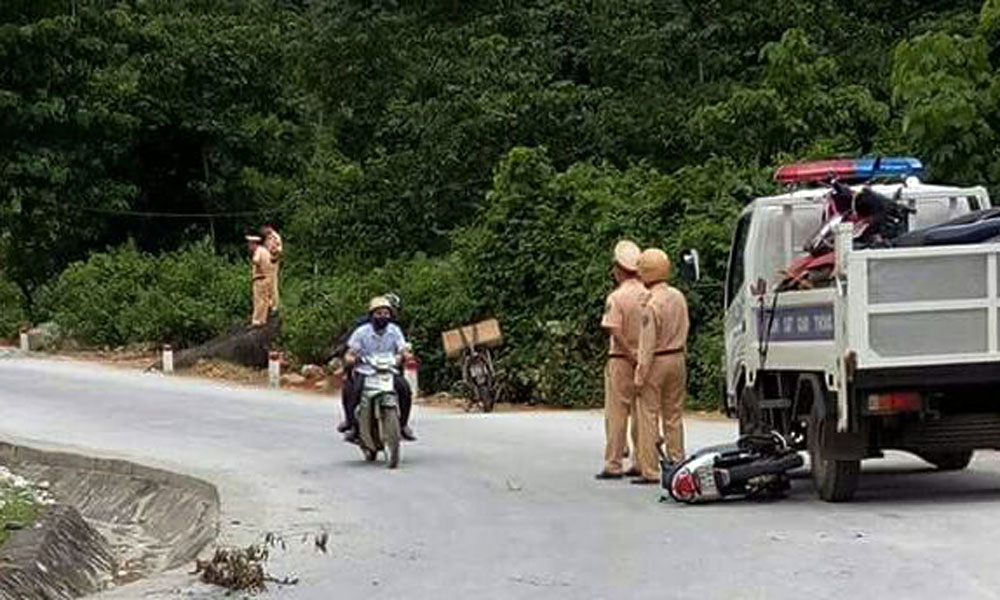police: (600, 243, 693, 480)
